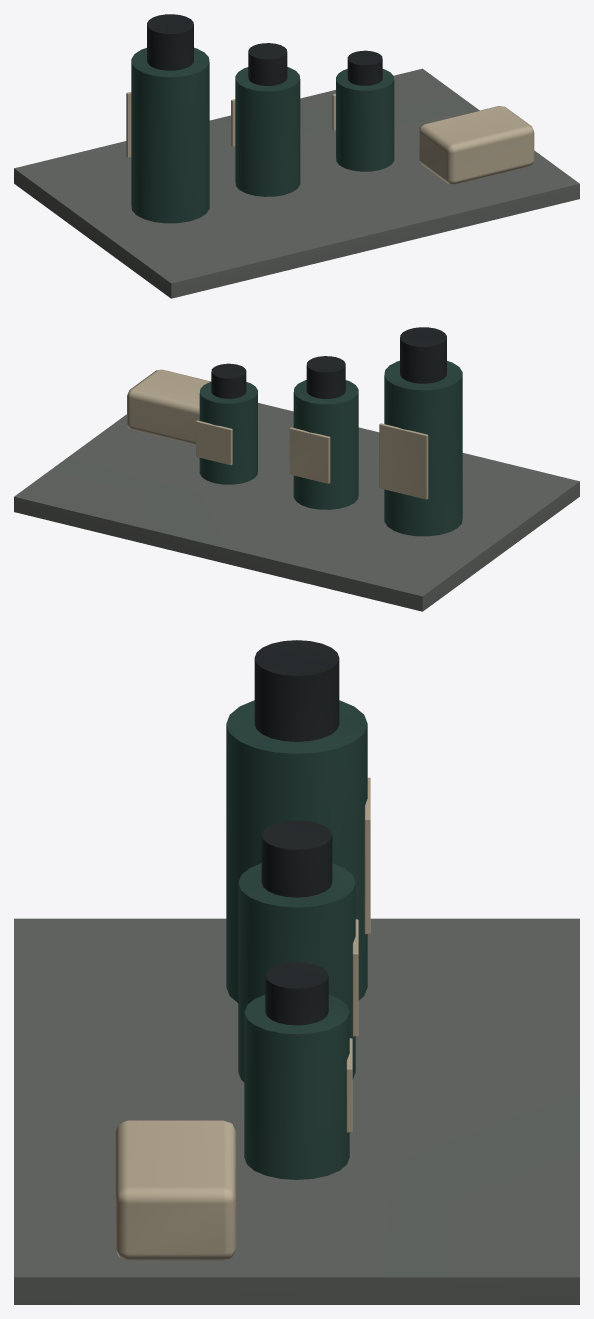
The model's file is prop-medicine-tray-v01.glb.
3 renders of one model, top to bottom at view 1: azimuth 30°, elevation 25°; view 2: azimuth 150°, elevation 25°; view 3: azimuth 270°, elevation 25°, orthographic. The views are drawn at different scales.
Parts seen in each view (by area): view 1: medicine-tray; view 2: medicine-tray; view 3: medicine-tray.
Boxes of the visible parts, <box> form: medicine-tray: <box>14,14,579,298</box>; medicine-tray: <box>14,327,579,611</box>; medicine-tray: <box>14,640,579,1304</box>.
Size of the model in its own units: 0.42 by 0.1945 by 0.28.
